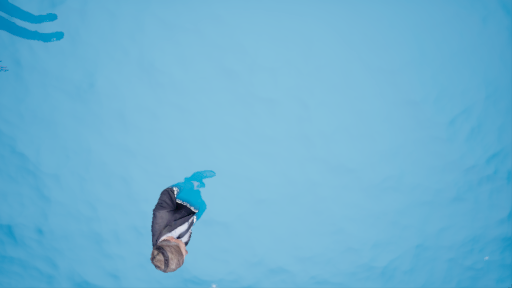person: (146, 167, 231, 277)
